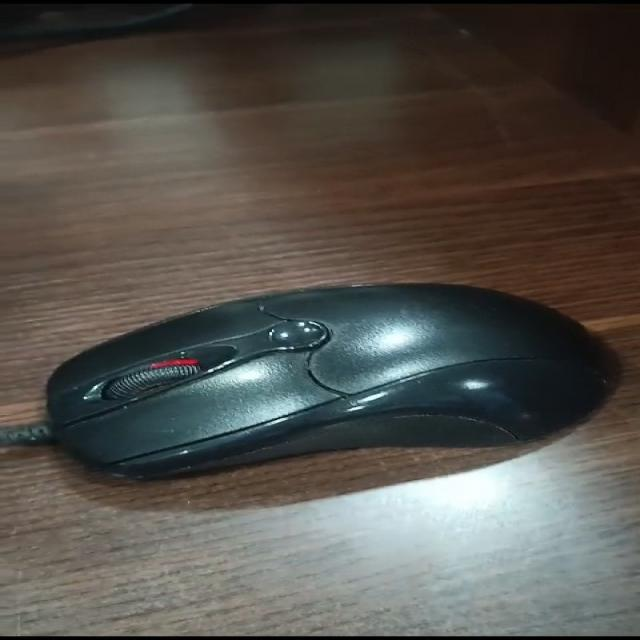mouse: (11, 256, 640, 508)
